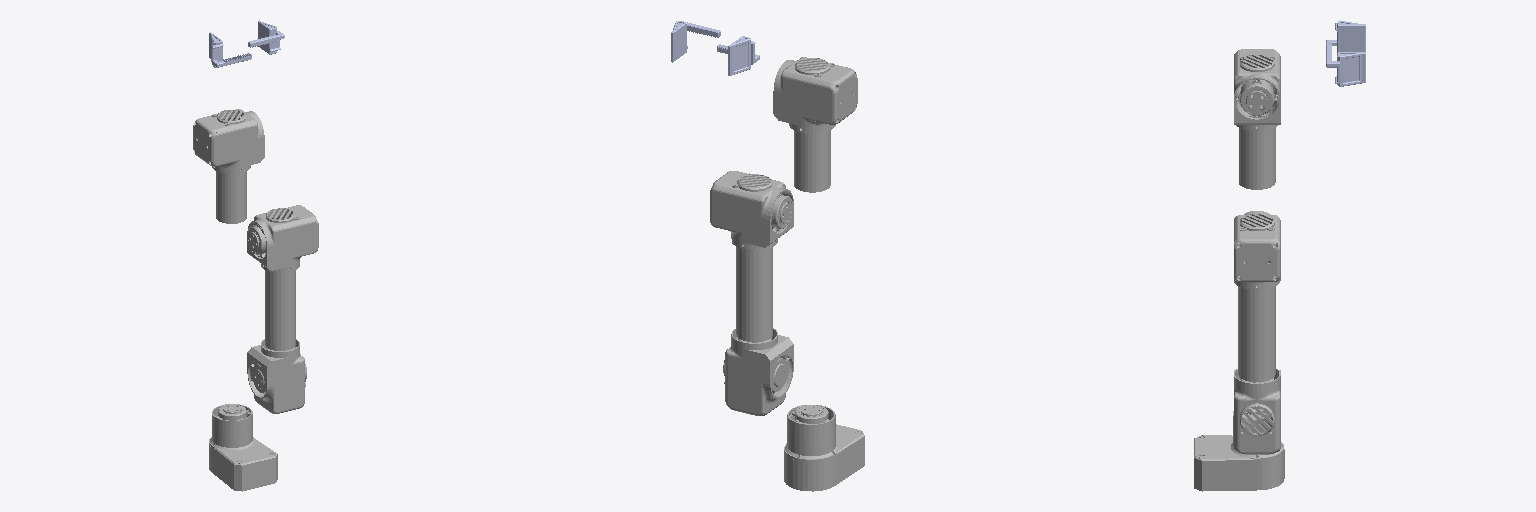
The robot description file, URDF, robot "8dof_description":
<?xml version="1.0" encoding="utf-8"?>
<!-- This URDF was automatically created by SolidWorks to URDF Exporter! Originally created by Stephen Brawner (brawner@gmail.com) 
     Commit Version: 1.6.0-4-g7f85cfe  Build Version: 1.6.7995.38578
     For more information, please see http://wiki.ros.org/sw_urdf_exporter -->
<robot name="8dof_description">
  <link name="base_link">
    <inertial>
      <origin xyz="-2.08175701580243E-05 -0.0215944619940899 0.0386965059587762" rpy="0 0 0" />
      <mass value="0.226867575584474" />
      <inertia ixx="0.000310138970163127" ixy="3.57652047089324E-08" ixz="2.76570159637442E-09" iyy="0.000172445953154283" iyz="-1.18759040248718E-05" izz="0.000403590658467127" />
    </inertial>
    <visual>
      <origin xyz="0 0 0" rpy="0 0 0" />
      <geometry>
        <mesh filename="../meshes/base_link.STL" />
      </geometry>
      <material name="">
        <color rgba="0.752941176470588 0.752941176470588 0.752941176470588 1" />
      </material>
    </visual>
    <collision>
      <origin xyz="0 0 0" rpy="0 0 0" />
      <geometry>
        <mesh filename="../meshes/base_link.STL" />
      </geometry>
    </collision>
  </link>
  <link name="link_1">
    <inertial>
      <origin xyz="0.00362239334791756 -3.81795642908633E-05 0.140982620125569" rpy="0 0 0" />
      <mass value="0.141639977131661" />
      <inertia ixx="8.98141382308835E-05" ixy="1.13468736177962E-08" ixz="3.51673525250542E-06" iyy="9.15722320805618E-05" iyz="3.6542592292488E-08" izz="0.000140053948831358" />
    </inertial>
    <visual>
      <origin xyz="0 0 0" rpy="0 0 0" />
      <geometry>
        <mesh filename="../meshes/link_1.STL" />
      </geometry>
      <material name="">
        <color rgba="0.752941176470588 0.752941176470588 0.752941176470588 1" />
      </material>
    </visual>
    <collision>
      <origin xyz="0 0 0" rpy="0 0 0" />
      <geometry>
        <mesh filename="../meshes/link_1.STL" />
      </geometry>
    </collision>
  </link>
  <joint name="joint_1" type="revolute">
    <origin xyz="0 0 0" rpy="0 0 0" />
    <parent link="base_link" />
    <child link="link_1" />
    <axis xyz="0 0 1" />
    <limit lower="-0.785398" upper="3.92699" effort="2" velocity="3" />
  </joint>
  <link name="link_2">
    <inertial>
      <origin xyz="7.53940182482427E-06 0.00505678180282546 0.0842129380713663" rpy="0 0 0" />
      <mass value="0.143507549223786" />
      <inertia ixx="9.77478537604331E-05" ixy="-1.67427633619241E-08" ixz="-1.8083438756804E-08" iyy="9.07459548934155E-05" iyz="3.57849204977034E-06" izz="0.000147113534917112" />
    </inertial>
    <visual>
      <origin xyz="0 0 0" rpy="0 0 0" />
      <geometry>
        <mesh filename="../meshes/link_2.STL" />
      </geometry>
      <material name="">
        <color rgba="0.752941176470588 0.752941176470588 0.752941176470588 1" />
      </material>
    </visual>
    <collision>
      <origin xyz="0 0 0" rpy="0 0 0" />
      <geometry>
        <mesh filename="../meshes/link_2.STL" />
      </geometry>
    </collision>
  </link>
  <joint name="joint_2" type="revolute">
    <origin xyz="0 0 0.1464" rpy="1.5707963267949 0 1.5707963267949" />
    <parent link="link_1" />
    <child link="link_2" />
    <axis xyz="0 0 1" />
    <limit lower="-1.57" upper="1.57" effort="2" velocity="3" />
  </joint>
  <link name="link_3">
    <inertial>
      <origin xyz="-0.00330775018246701 -1.51931359661378E-05 -0.215292675404989" rpy="0 0 0" />
      <mass value="0.173954075434222" />
      <inertia ixx="0.000144630940442922" ixy="-1.32847181187994E-07" ixz="3.53526021477459E-06" iyy="0.000147338139082199" iyz="-6.41277682295082E-09" izz="0.000161646518516295" />
    </inertial>
    <visual>
      <origin xyz="0 0 0" rpy="0 0 0" />
      <geometry>
        <mesh filename="../meshes/link_3.STL" />
      </geometry>
      <material name="">
        <color rgba="0.752941176470588 0.752941176470588 0.752941176470588 1" />
      </material>
    </visual>
    <collision>
      <origin xyz="0 0 0" rpy="0 0 0" />
      <geometry>
        <mesh filename="../meshes/link_3.STL" />
      </geometry>
    </collision>
  </link>
  <joint name="joint_3" type="revolute">
    <origin xyz="0 0 0.0894999999999936" rpy="1.5707963267949 -1.5707963267949 0" />
    <parent link="link_2" />
    <child link="link_3" />
    <axis xyz="0 0 -1" />
    <limit lower="-3.14" upper="3.14" effort="2" velocity="3" />
  </joint>
  <link name="link_4">
    <inertial>
      <origin xyz="-3.69732387454358E-05 -0.0033965928719577 0.0858843482112302" rpy="0 0 0" />
      <mass value="0.148325167434625" />
      <inertia ixx="9.83824919124809E-05" ixy="-8.95348942306975E-09" ixz="3.53186062441229E-08" iyy="9.2436601034005E-05" iyz="-3.58230406317328E-06" izz="0.000148216123686448" />
    </inertial>
    <visual>
      <origin xyz="0 0 0" rpy="0 0 0" />
      <geometry>
        <mesh filename="../meshes/link_4.STL" />
      </geometry>
      <material name="">
        <color rgba="0.752941176470588 0.752941176470588 0.752941176470588 1" />
      </material>
    </visual>
    <collision>
      <origin xyz="0 0 0" rpy="0 0 0" />
      <geometry>
        <mesh filename="../meshes/link_4.STL" />
      </geometry>
    </collision>
  </link>
  <joint name="joint_4" type="revolute">
    <origin xyz="0 0 -0.24698520586243" rpy="1.5707963267949 0 -1.5707963267949" />
    <parent link="link_3" />
    <child link="link_4" />
    <axis xyz="0 0 1" />
    <limit lower="-2.09" upper="2.09" effort="2" velocity="3" />
  </joint>
  <link name="link_5">
    <inertial>
      <origin xyz="0.00206792792814742 -2.76614863313485E-05 0.175346578298024" rpy="0 0 0" />
      <mass value="0.170949127914978" />
      <inertia ixx="0.000112877897565311" ixy="1.33876282485736E-07" ixz="3.50583392437512E-06" iyy="0.00011462399449212" iyz="-1.95086999820314E-08" izz="0.000157908884644634" />
    </inertial>
    <visual>
      <origin xyz="0 0 0" rpy="0 0 0" />
      <geometry>
        <mesh filename="../meshes/link_5.STL" />
      </geometry>
      <material name="">
        <color rgba="0.752941176470588 0.752941176470588 0.752941176470588 1" />
      </material>
    </visual>
    <collision>
      <origin xyz="0 0 0" rpy="0 0 0" />
      <geometry>
        <mesh filename="../meshes/link_5.STL" />
      </geometry>
    </collision>
  </link>
  <joint name="joint_5" type="revolute">
    <origin xyz="0 0 0.0909852058624292" rpy="1.5707963267949 1.5707963267949 0" />
    <parent link="link_4" />
    <child link="link_5" />
    <axis xyz="0 0 1" />
    <limit lower="-3.14" upper="3.14" effort="2" velocity="3" />
  </joint>
  <link name="link_6">
    <inertial>
      <origin xyz="4.11085997713834E-05 0.00257530402715256 0.0857796541219091" rpy="0 0 0" />
      <mass value="0.145620756588228" />
      <inertia ixx="9.17894079115679E-05" ixy="-9.76230646695324E-09" ixz="-3.67352230545471E-08" iyy="9.06990729876771E-05" iyz="3.51811623142639E-06" izz="0.000140766609119444" />
    </inertial>
    <visual>
      <origin xyz="0 0 0" rpy="0 0 0" />
      <geometry>
        <mesh filename="../meshes/link_6.STL" />
      </geometry>
      <material name="">
        <color rgba="0.752941176470588 0.752941176470588 0.752941176470588 1" />
      </material>
    </visual>
    <collision>
      <origin xyz="0 0 0" rpy="0 0 0" />
      <geometry>
        <mesh filename="../meshes/link_6.STL" />
      </geometry>
    </collision>
  </link>
  <joint name="joint_6" type="revolute">
    <origin xyz="0 0 0.19698520586243" rpy="1.5707963267949 0 1.5707963267949" />
    <parent link="link_5" />
    <child link="link_6" />
    <axis xyz="0 0 1" />
    <limit lower="-2.09" upper="2.09" effort="2" velocity="3" />
  </joint>
  <link name="link_7">
    <inertial>
      <origin xyz="3.04281750932445E-05 0.00389253372731124 -0.0873287224716447" rpy="0 0 0" />
      <mass value="0.208798877978331" />
      <inertia ixx="0.000104218009947256" ixy="1.74574824717128E-08" ixz="5.38289410367358E-08" iyy="0.000112327075315552" iyz="3.51730775061429E-06" izz="0.00015338924637272" />
    </inertial>
    <visual>
      <origin xyz="0 0 0" rpy="0 0 0" />
      <geometry>
        <mesh filename="../meshes/link_7.STL" />
      </geometry>
      <material name="">
        <color rgba="0.752941176470588 0.752941176470588 0.752941176470588 1" />
      </material>
    </visual>
    <collision>
      <origin xyz="0 0 0" rpy="0 0 0" />
      <geometry>
        <mesh filename="../meshes/link_7.STL" />
      </geometry>
    </collision>
  </link>
  <joint name="joint_7" type="revolute">
    <origin xyz="0 0 0.0909852058624294" rpy="1.5707963267949 -1.5707963267949 0" />
    <parent link="link_6" />
    <child link="link_7" />
    <axis xyz="0 0 -1" />
    <limit lower="-2.09" upper="2.09" effort="2" velocity="3" />
  </joint>
  <link name="tool_frame">
    <inertial>
      <origin xyz="2.64411535884357E-05 9.79545500181533E-05 0.0184262437077161" rpy="0 0 0" />
      <mass value="0.125010719073419" />
      <inertia ixx="2.2629392203171E-05" ixy="2.32911033544108E-06" ixz="8.5900261072939E-10" iyy="0.00012815635241114" iyz="5.55851104809067E-09" izz="0.000144851958518917" />
    </inertial>
    <visual>
      <origin xyz="0 0 0" rpy="0 0 0" />
      <geometry>
        <mesh filename="../meshes/tool_frame.STL" />
      </geometry>
      <material name="">
        <color rgba="0.250980392156863 0.250980392156863 0.250980392156863 1" />
      </material>
    </visual>
    <collision>
      <origin xyz="0 0 0" rpy="0 0 0" />
      <geometry>
        <mesh filename="../meshes/tool_frame.STL" />
      </geometry>
    </collision>
  </link>
  <joint name="tool_joint" type="revolute">
    <origin xyz="0 -0.102485205862441 -0.0909852058624315" rpy="-1.5707963267949 0 0" />
    <parent link="link_7" />
    <child link="tool_frame" />
    <axis xyz="0 0 -1" />
    <limit lower="-2.09" upper="2.09" effort="2" velocity="3" />
  </joint>
  <link name="grip_left">
    <inertial>
      <origin xyz="-0.0454469154965145 -0.00225339802100599 -0.0156033496088577" rpy="0 0 0" />
      <mass value="0.0199960953484895" />
      <inertia ixx="6.8520261009693E-06" ixy="6.28134392390056E-07" ixz="-1.03874099356176E-06" iyy="6.67336841270338E-06" iyz="8.79996273613866E-07" izz="5.95029100616287E-06" />
    </inertial>
    <visual>
      <origin xyz="0 0 0" rpy="0 0 0" />
      <geometry>
        <mesh filename="../meshes/grip_left.STL" />
      </geometry>
      <material name="">
        <color rgba="0.792156862745098 0.819607843137255 0.933333333333333 1" />
      </material>
    </visual>
    <collision>
      <origin xyz="0 0 0" rpy="0 0 0" />
      <geometry>
        <mesh filename="../meshes/grip_left.STL" />
      </geometry>
    </collision>
  </link>
  <joint name="grip_left" type="prismatic">
    <origin xyz="0 0 0" rpy="0 0 0" />
    <parent link="tool_frame" />
    <child link="grip_left" />
    <axis xyz="-1 0 0" />
    <limit lower="-0.04" upper="0" effort="1" velocity="0.5" />
  </joint>
  <link name="grip_right">
    <inertial>
      <origin xyz="0.0454469154965374 0.00225339802100588 -0.0156033496088577" rpy="0 0 0" />
      <mass value="0.0199960953484896" />
      <inertia ixx="6.85202610096932E-06" ixy="6.28134392390057E-07" ixz="1.03874099356176E-06" iyy="6.67336841270338E-06" iyz="-8.7999627361387E-07" izz="5.95029100616287E-06" />
    </inertial>
    <visual>
      <origin xyz="0 0 0" rpy="0 0 0" />
      <geometry>
        <mesh filename="../meshes/grip_right.STL" />
      </geometry>
      <material name="">
        <color rgba="0.792156862745098 0.819607843137255 0.933333333333333 1" />
      </material>
    </visual>
    <collision>
      <origin xyz="0 0 0" rpy="0 0 0" />
      <geometry>
        <mesh filename="../meshes/grip_right.STL" />
      </geometry>
    </collision>
  </link>
  <joint name="grip_right" type="prismatic">
    <origin xyz="0 0 0" rpy="0 0 0" />
    <parent link="tool_frame" />
    <child link="grip_right" />
    <axis xyz="-1 0 0" />
    <limit lower="0" upper="0.04" effort="1" velocity="0.5" />
  </joint>
</robot>

--- Render facts (derived) ---
Views: 3 orthographic renders of the robot side by side, from view 1: azimuth 30°, elevation 25°; view 2: azimuth 150°, elevation 25°; view 3: azimuth 270°, elevation 25°.
Model 8dof_description with 11 links and 10 joints (8 revolute, 2 prismatic), rooted at base_link, posed all joints at 0.
Links seen in each view (by area): view 1: link_3, link_5, base_link, link_2, grip_right, grip_left; view 2: link_3, link_5, base_link, link_2, grip_left, grip_right; view 3: link_3, link_5, base_link, link_2, grip_right, grip_left.
Boxes of the visible links, x1,y1,x2,y2 form: link_3: [247, 205, 318, 350]; link_5: [193, 109, 264, 223]; base_link: [209, 404, 277, 491]; link_2: [247, 339, 306, 413]; grip_right: [248, 20, 284, 54]; grip_left: [209, 32, 251, 67]; link_3: [710, 171, 793, 341]; link_5: [773, 57, 857, 192]; base_link: [784, 405, 864, 491]; link_2: [723, 328, 793, 415]; grip_left: [717, 36, 759, 75]; grip_right: [671, 21, 720, 62]; link_3: [1234, 211, 1280, 381]; link_5: [1234, 49, 1280, 189]; base_link: [1194, 411, 1284, 491]; link_2: [1234, 369, 1280, 454]; grip_right: [1326, 44, 1365, 86]; grip_left: [1326, 20, 1365, 52].
Size in the robot's own frame: 0.2091 by 0.2345 by 0.7044 metres.
6 mesh visuals loaded from 11 distinct referenced files (6 binary STL); not drawn: 5 (reference not matched to a file when rendering).
